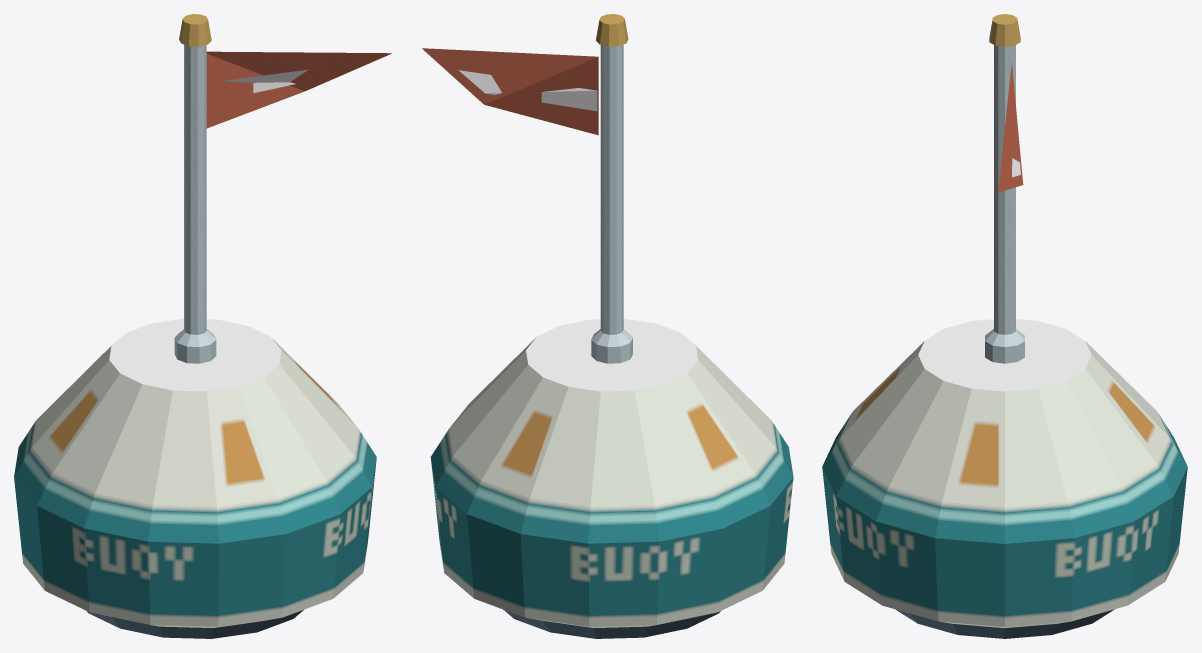
File: buoyancy_float.obj
The picture shows the model from 3 angles, left to right: view 1: azimuth 30°, elevation 25°; view 2: azimuth 150°, elevation 25°; view 3: azimuth 270°, elevation 25°; orthographic projection.
Visible parts, largest first — view 1: buoyancy_float; view 2: buoyancy_float; view 3: buoyancy_float.
Boxes of the visible parts, <box> form: buoyancy_float: <box>14,14,391,638</box>; buoyancy_float: <box>422,14,793,638</box>; buoyancy_float: <box>822,14,1187,638</box>.
Size of the model in its own units: 0.5562 by 0.9125 by 0.5.
